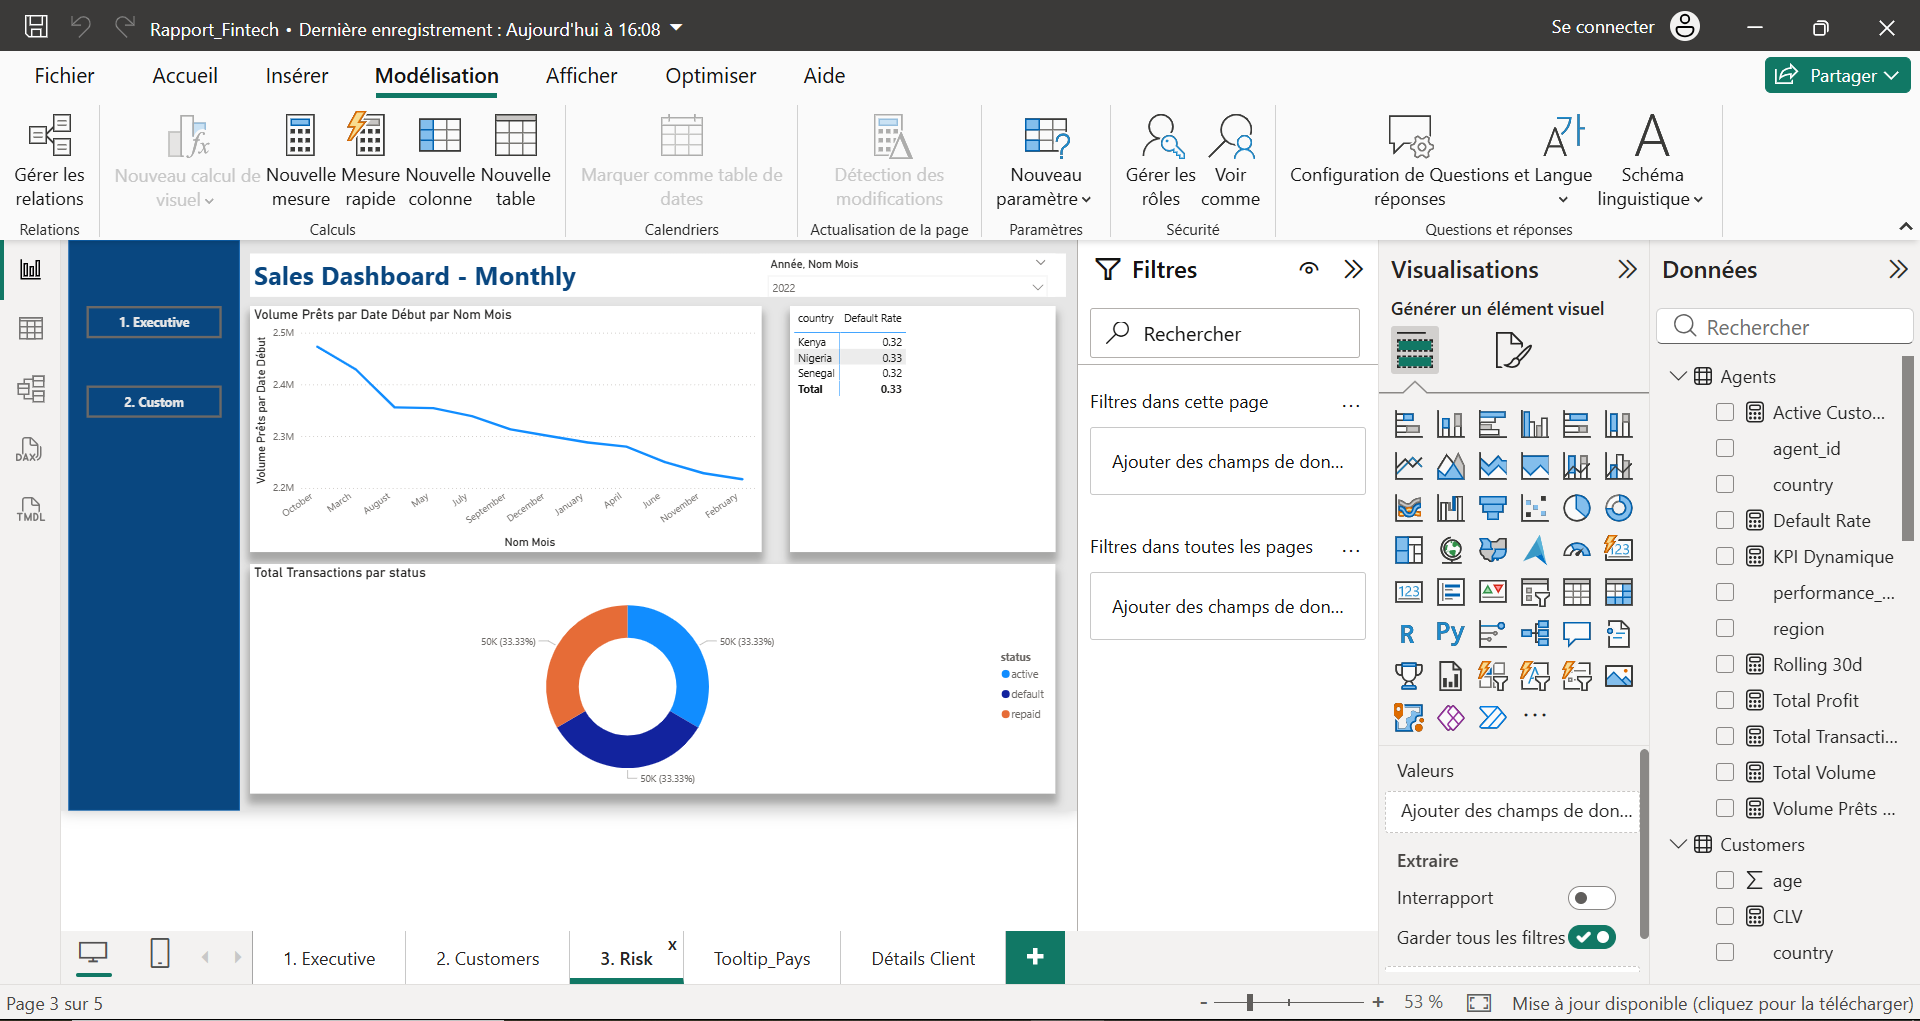

Layout of this report page (visuals, bound fields, positions):
{"tool":"powerbi","page":{"name":"3. Risk","canvas":[1280,720],"ordinal":2},"visuals":[{"type":"shape","box":[9.4,0,215.7,719],"z":0},{"type":"actionButton","box":[31.3,82.8,170.4,40.6],"z":1},{"type":"actionButton","box":[31.3,182.9,170.4,40.6],"z":2},{"type":"textbox","box":[238.1,17,1028,54.8],"z":3},{"type":"slicer","fields":{"Values":["DimDate.Année","DimDate.Nom Mois"]},"box":[880.6,17,372.3,54.8],"z":4},{"type":"lineChart","fields":{"Category":["DimDate.Nom Mois"],"Y":["Agents.Volume Prêts par Date Début"]},"box":[238.1,83.2,644.4,309.9],"z":5},{"type":"pivotTable","fields":{"Values":["Agents.Default Rate"],"Rows":["Customers.country"]},"box":[918.4,83.2,334.5,309.9],"z":6},{"type":"donutChart","fields":{"Category":["Loans.status"],"Y":["Agents.Total Transactions"]},"box":[238.1,408.2,1014.8,289.1],"z":7}]}

Visuals, with their boxes on the page's 1280x720 design canvas (x1, y1, x2, y2). These are canvas units, not pixel positions in the 1920x1021 screenshot, which may show the page scaled, cropped or inside an application window:
shape: (9, 0, 225, 719)
actionButton: (31, 83, 202, 123)
actionButton: (31, 183, 202, 224)
textbox: (238, 17, 1266, 72)
slicer - DimDate.Année x DimDate.Nom Mois: (881, 17, 1253, 72)
lineChart - DimDate.Nom Mois x Agents.Volume Prêts par Date Début: (238, 83, 882, 393)
pivotTable - Agents.Default Rate x Customers.country: (918, 83, 1253, 393)
donutChart - Loans.status x Agents.Total Transactions: (238, 408, 1253, 697)
